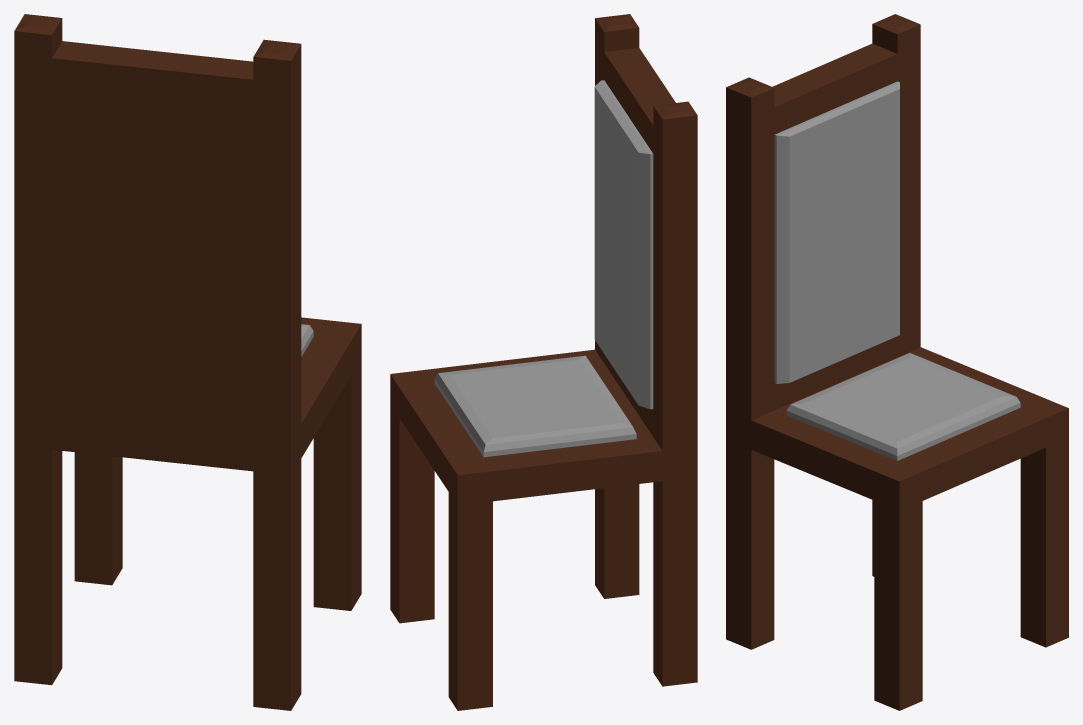
File: scaun.glb
3 views of the same model, side by side, from view 1: azimuth 30°, elevation 25°; view 2: azimuth 150°, elevation 25°; view 3: azimuth 270°, elevation 25° (orthographic). The views are drawn at different scales.
Visible parts, largest first — view 1: Cube.088; view 2: Cube.088; view 3: Cube.088.
Part boxes in pixels (x1,y1,x2,y2): Cube.088: (14,14,361,710); Cube.088: (390,14,697,710); Cube.088: (726,14,1068,710).
Size of the model in its own units: 2.83 by 5.03 by 2.83.
